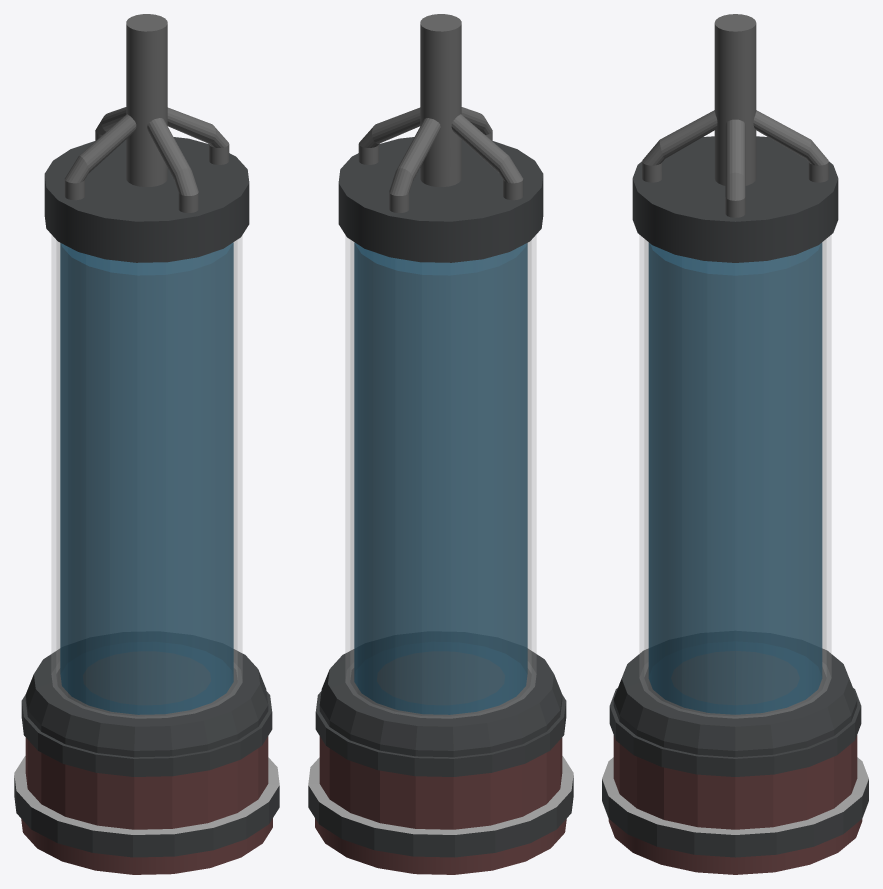
File: Tube_Filled_02.fbx
3 renders of one model, left to right at view 1: azimuth 30°, elevation 25°; view 2: azimuth 150°, elevation 25°; view 3: azimuth 270°, elevation 25°, orthographic.
Parts seen in each view (by area): view 1: Glass_Tube, Blue_Liquid, Base, Tube_Top, Pipe_Center, Pipe_02, Pipe_01, Pipe_04; view 2: Glass_Tube, Blue_Liquid, Base, Tube_Top, Pipe_Center, Pipe_02, Pipe_03, Pipe_04; view 3: Glass_Tube, Blue_Liquid, Base, Tube_Top, Pipe_Center, Pipe_04, Pipe_01, Pipe_03.
Part boxes in pixels (left/top/right/bottom): Glass_Tube: left=51, top=235, right=242, bottom=718; Blue_Liquid: left=60, top=242, right=233, bottom=714; Base: left=14, top=648, right=279, bottom=874; Tube_Top: left=44, top=137, right=249, bottom=262; Pipe_Center: left=126, top=14, right=167, bottom=186; Pipe_02: left=64, top=114, right=136, bottom=200; Pipe_01: left=147, top=118, right=198, bottom=212; Pipe_04: left=167, top=107, right=229, bottom=164; Glass_Tube: left=345, top=235, right=536, bottom=718; Blue_Liquid: left=354, top=242, right=527, bottom=714; Base: left=308, top=648, right=573, bottom=874; Tube_Top: left=338, top=137, right=543, bottom=262; Pipe_Center: left=420, top=14, right=461, bottom=186; Pipe_02: left=451, top=114, right=523, bottom=200; Pipe_03: left=389, top=118, right=440, bottom=212; Pipe_04: left=358, top=107, right=420, bottom=164; Glass_Tube: left=639, top=235, right=831, bottom=718; Blue_Liquid: left=648, top=243, right=822, bottom=714; Base: left=602, top=648, right=868, bottom=874; Tube_Top: left=632, top=136, right=838, bottom=262; Pipe_Center: left=714, top=14, right=756, bottom=185; Pipe_04: left=725, top=119, right=745, bottom=217; Pipe_01: left=642, top=110, right=717, bottom=182; Pipe_03: left=753, top=110, right=828, bottom=182.
Bounding box in the file's own units: 101 × 332 × 101.
